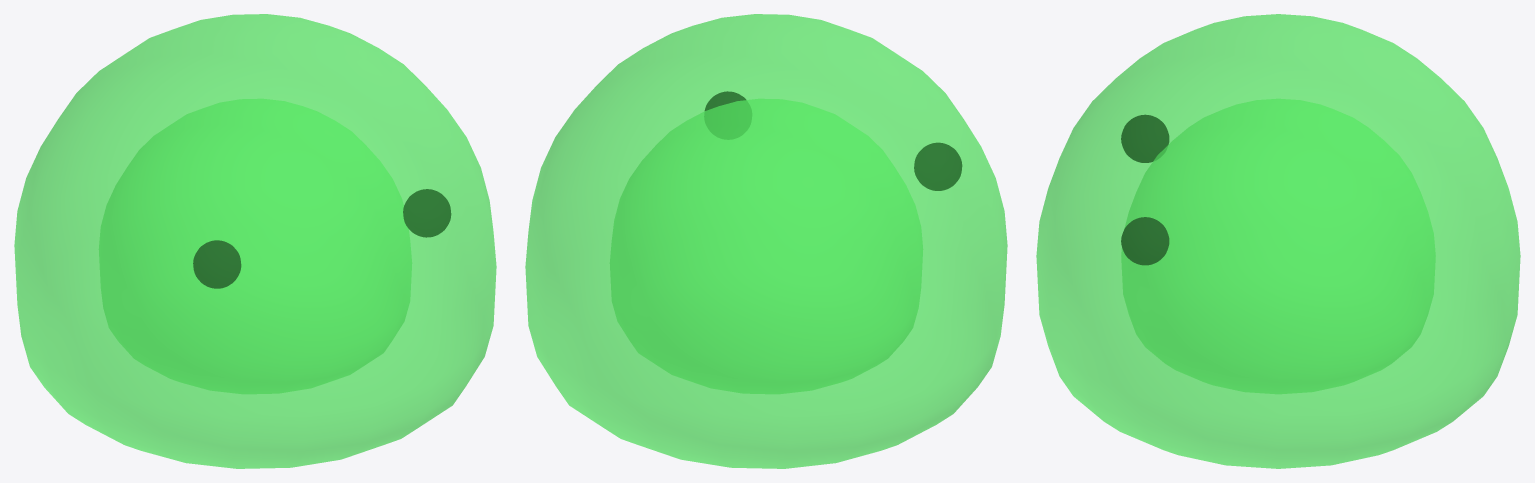
File: blob.glb
3 renders of one model, left to right at view 1: azimuth 30°, elevation 25°; view 2: azimuth 150°, elevation 25°; view 3: azimuth 270°, elevation 25°, orthographic.
Parts seen in each view (by area): view 1: Outside, Inside, Right_eye, Left_eye; view 2: Outside, Inside, Left_eye; view 3: Outside, Inside, Right_eye, Left_eye.
Boxes of the visible parts, x1,y1,x2,y2 form: Outside: (14, 14, 496, 468); Inside: (99, 99, 411, 393); Right_eye: (403, 189, 451, 237); Left_eye: (193, 240, 241, 288); Outside: (525, 14, 1007, 468); Inside: (610, 99, 922, 393); Left_eye: (914, 142, 962, 190); Outside: (1036, 14, 1520, 468); Inside: (1121, 99, 1435, 393); Right_eye: (1121, 217, 1169, 265); Left_eye: (1121, 114, 1169, 162).
Bounding box in the file's own units: 1 × 0.8958 × 1.
